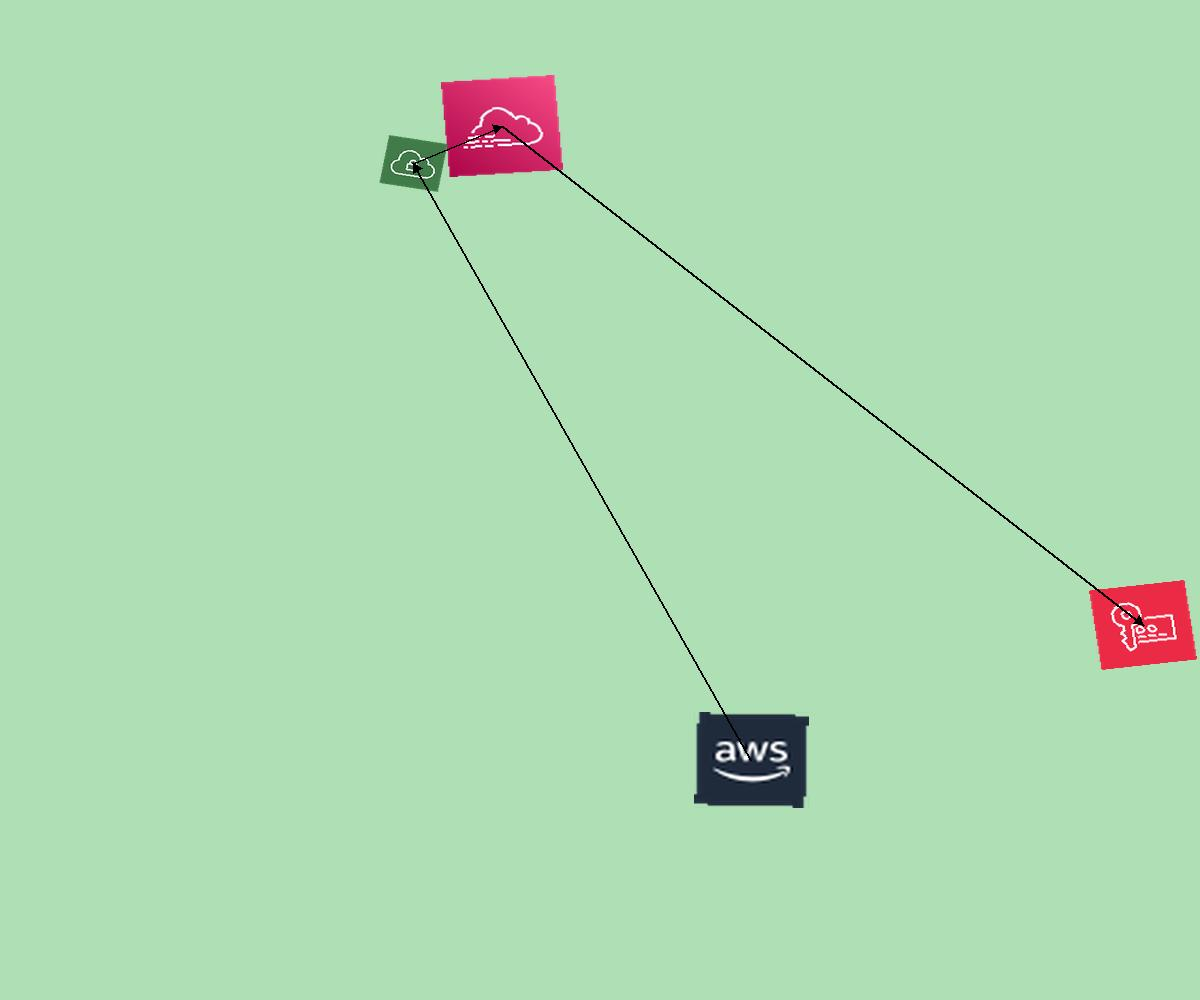AWS-Cloud-logo: (694, 712, 809, 808)
AWS-CloudTrail: (441, 75, 563, 177)
AWS-Key-Management-Service: (1089, 580, 1197, 670)
AWS-Private_vpc: (379, 135, 448, 192)
